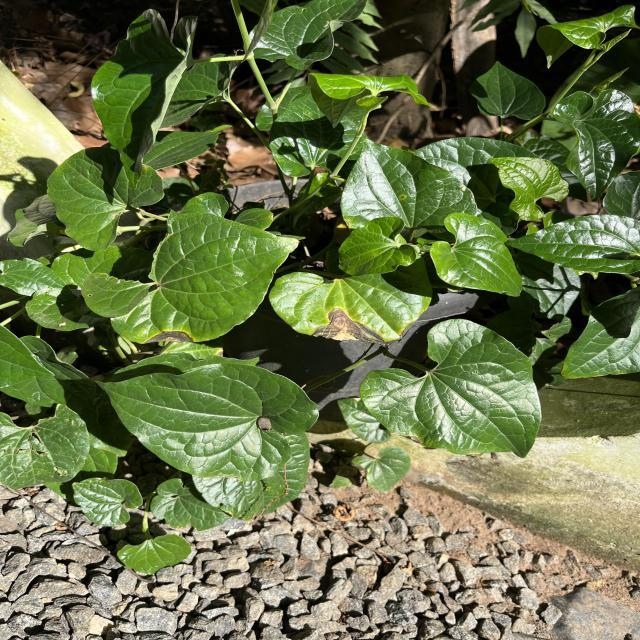Piper longum: (94, 361, 320, 482), (358, 316, 544, 461), (338, 135, 479, 229), (45, 144, 166, 253), (428, 211, 526, 298), (336, 214, 420, 276)
